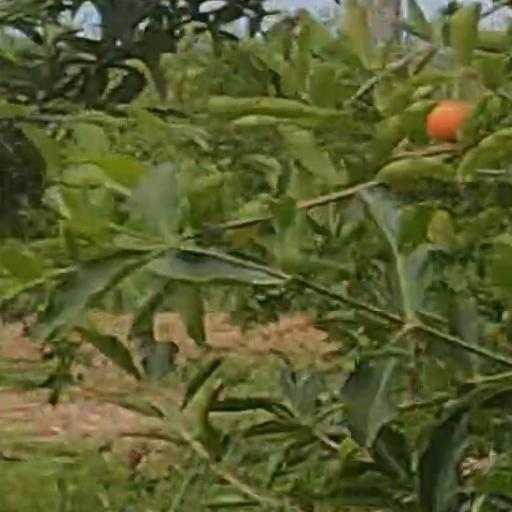acerola_vermelha: (427, 100, 469, 146)
